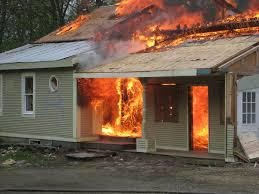fire: (113, 1, 259, 48), (84, 76, 144, 136), (189, 84, 208, 147), (52, 12, 88, 34)
